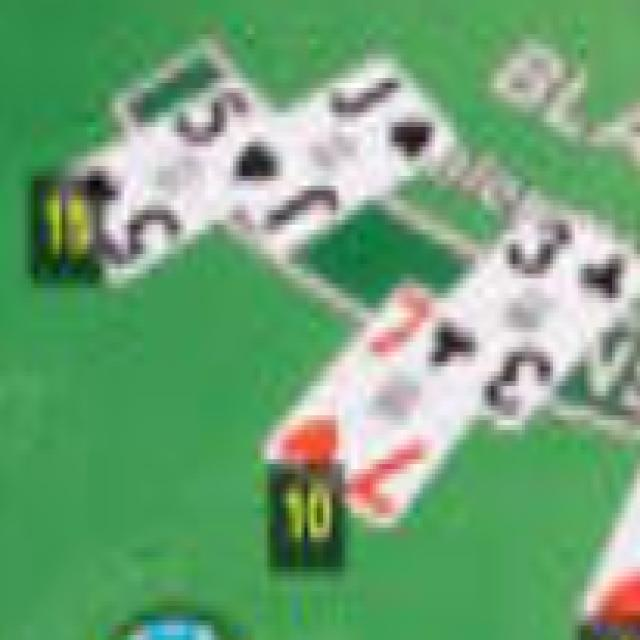Card-3: (396, 205, 639, 442)
Card-5: (61, 72, 278, 296)
Card-7: (264, 278, 462, 529)
Card-J: (189, 53, 456, 271)
